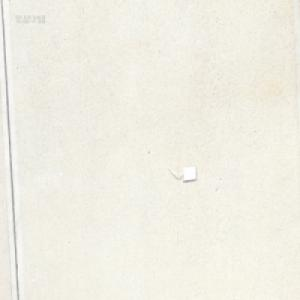LuggageTag: (167, 165, 196, 181)
